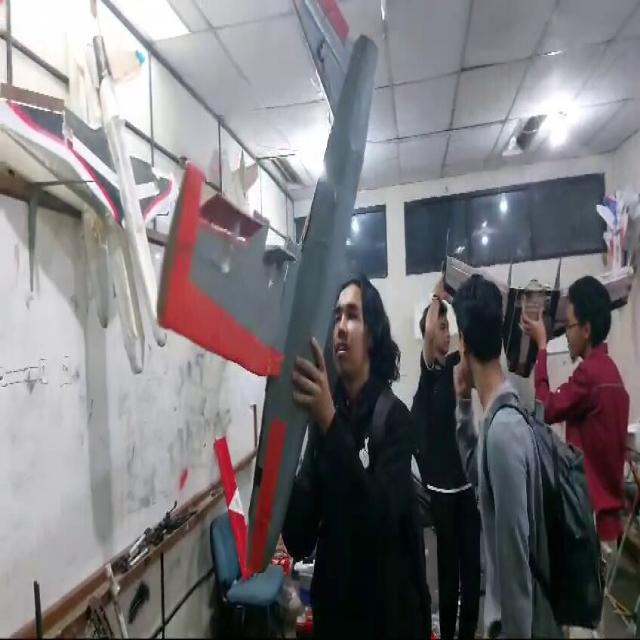plane: (152, 0, 395, 589)
